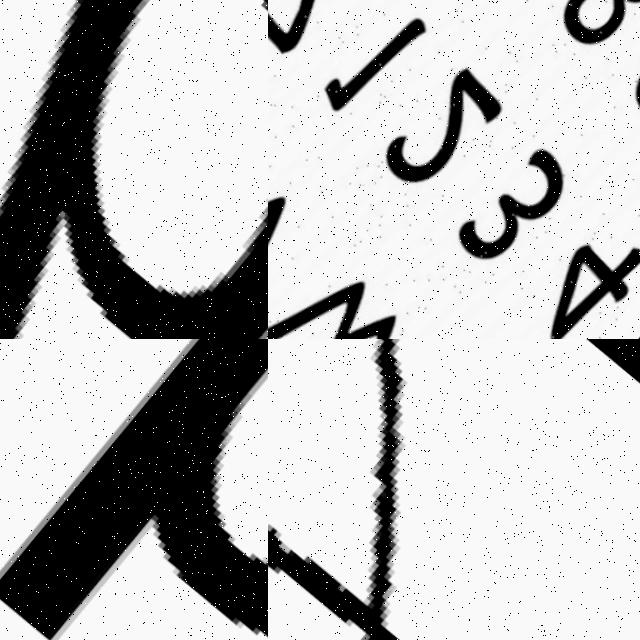1: (305, 0, 450, 145)
2: (349, 35, 534, 236)
3: (432, 120, 602, 303)
4: (497, 194, 640, 339)
7: (268, 339, 640, 640)
8: (527, 0, 640, 82)
9: (599, 0, 640, 159)
B: (0, 339, 268, 640)
